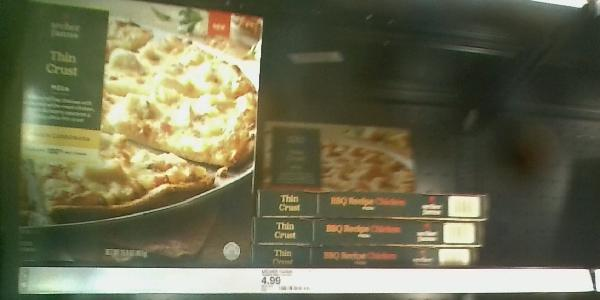pizza1: (13, 1, 261, 267)
pizza2: (257, 183, 491, 223), (257, 215, 484, 244), (262, 244, 484, 267)
